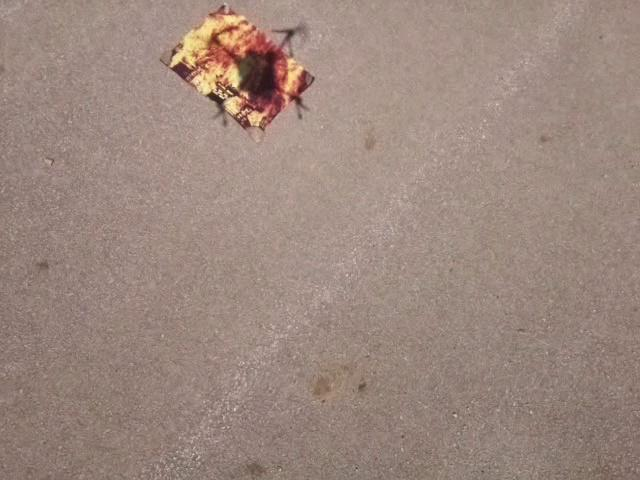fire-poster: (158, 2, 316, 144)
